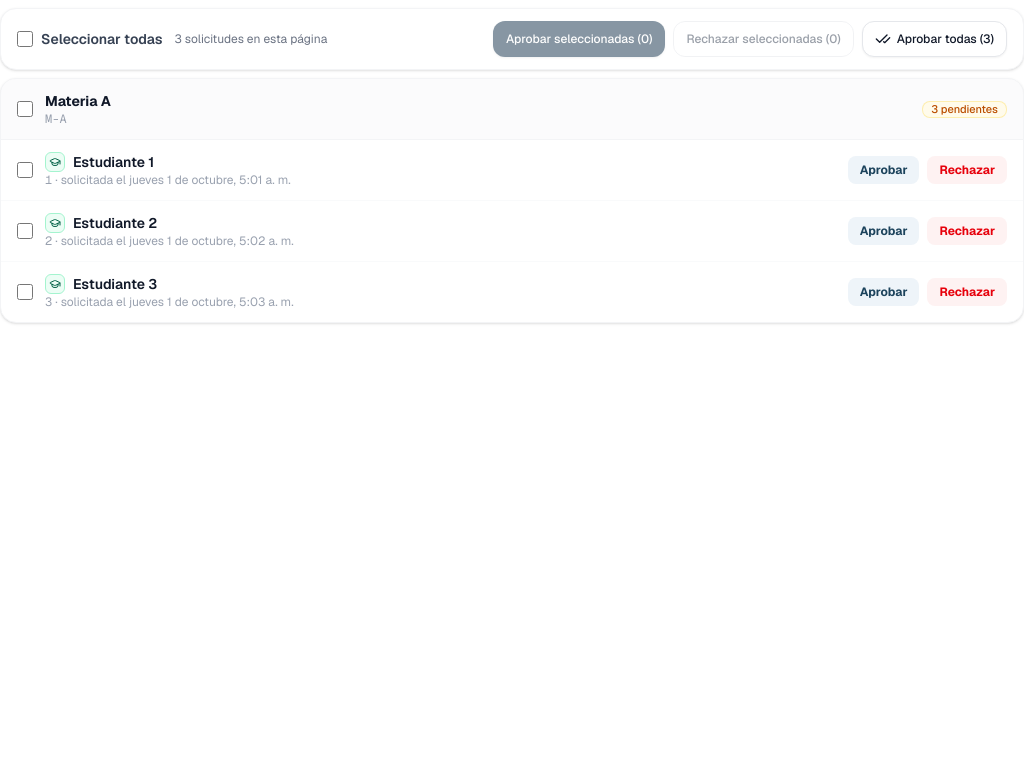
Scenario: EnrollmentRequestsBoard › summarizes a partial failure in one toast and keeps the failed rows
This screenshot has width=1024, height=768.
Click the checkbox named "de esta página" at {"x": 25, "y": 39}, box [17,31,33,47]
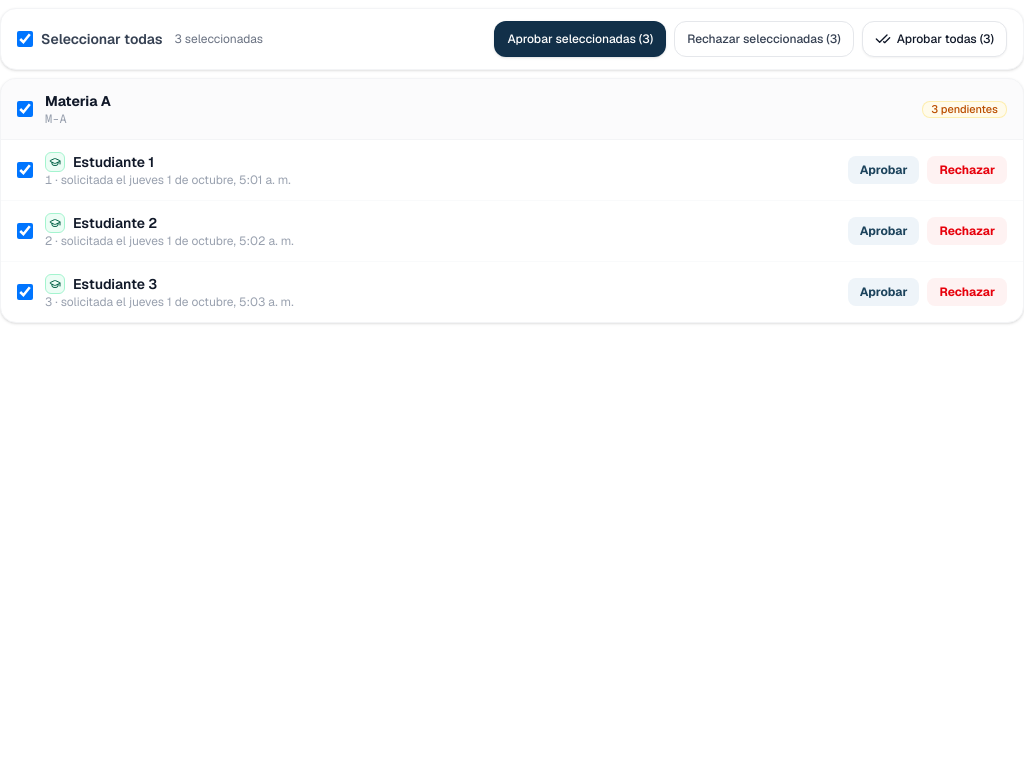
Click the button "Aprobar seleccionadas (3)" at {"x": 580, "y": 39}, box [494,21,666,57]
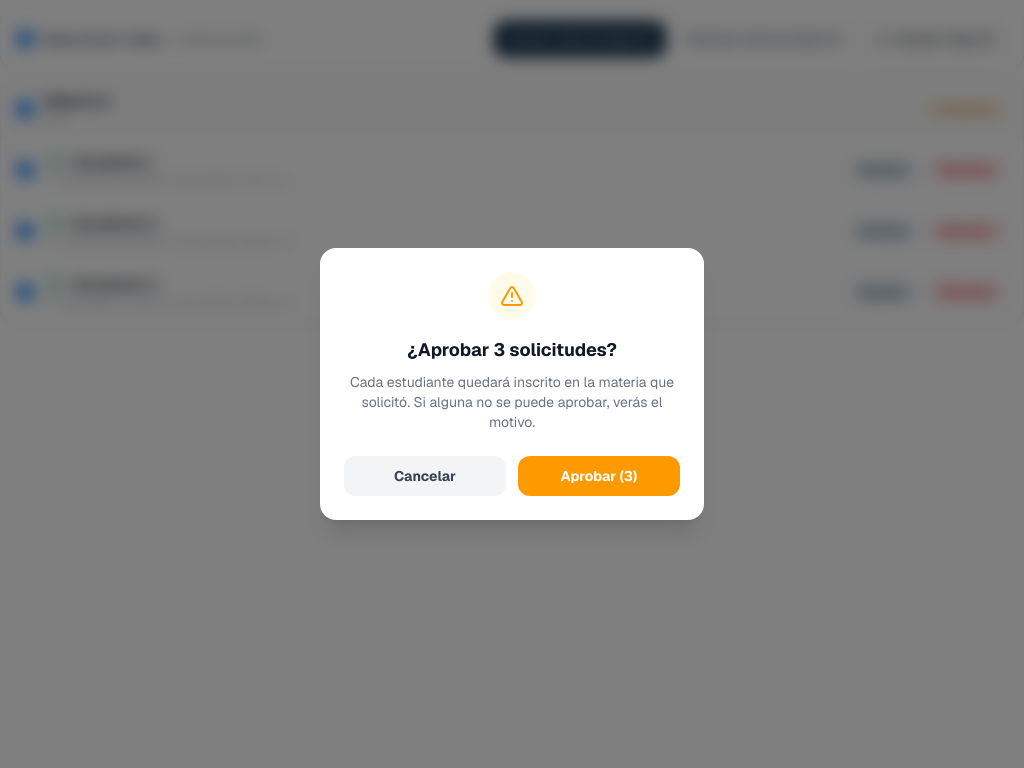
Click the button "Aprobar (3)" at {"x": 599, "y": 476}, box [518,456,680,496]
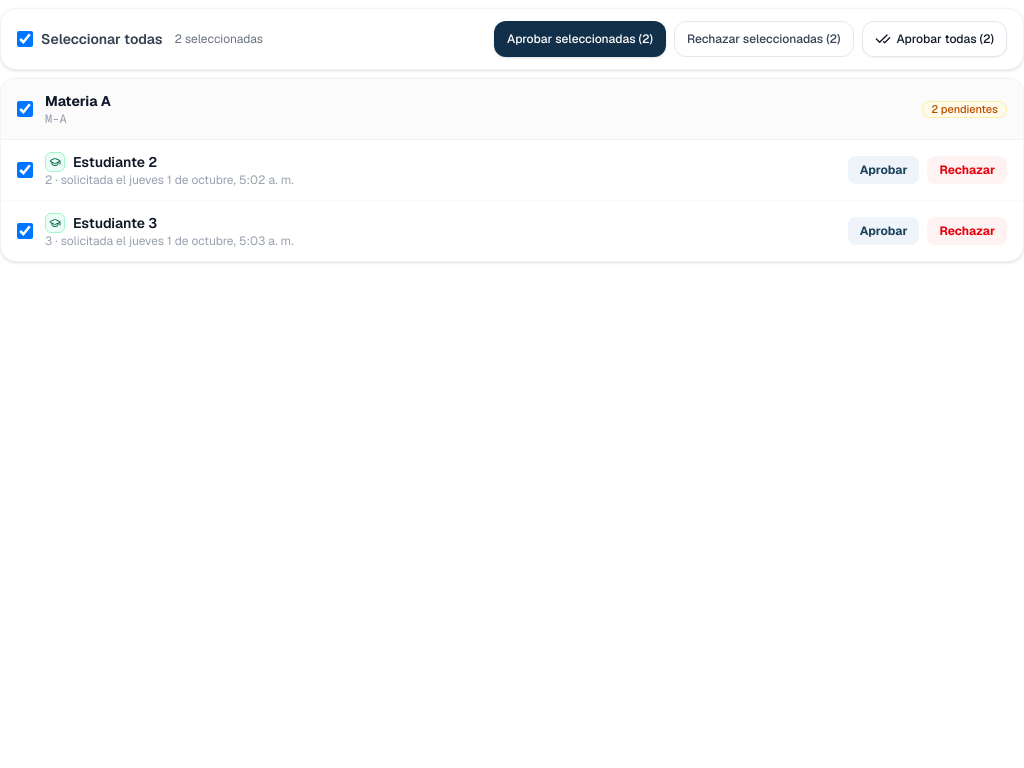
Expected: the text "Estudiante 2" is shown, [73,152,157,172]
Now the text "Estudiante 1" is gone
